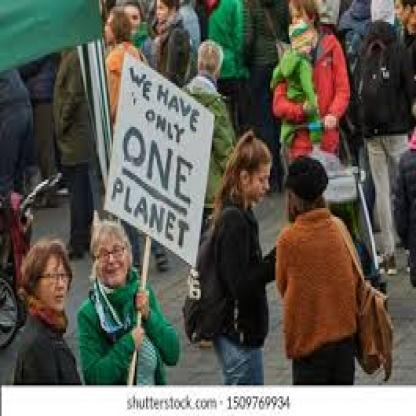BANNER: (104, 46, 213, 265)
